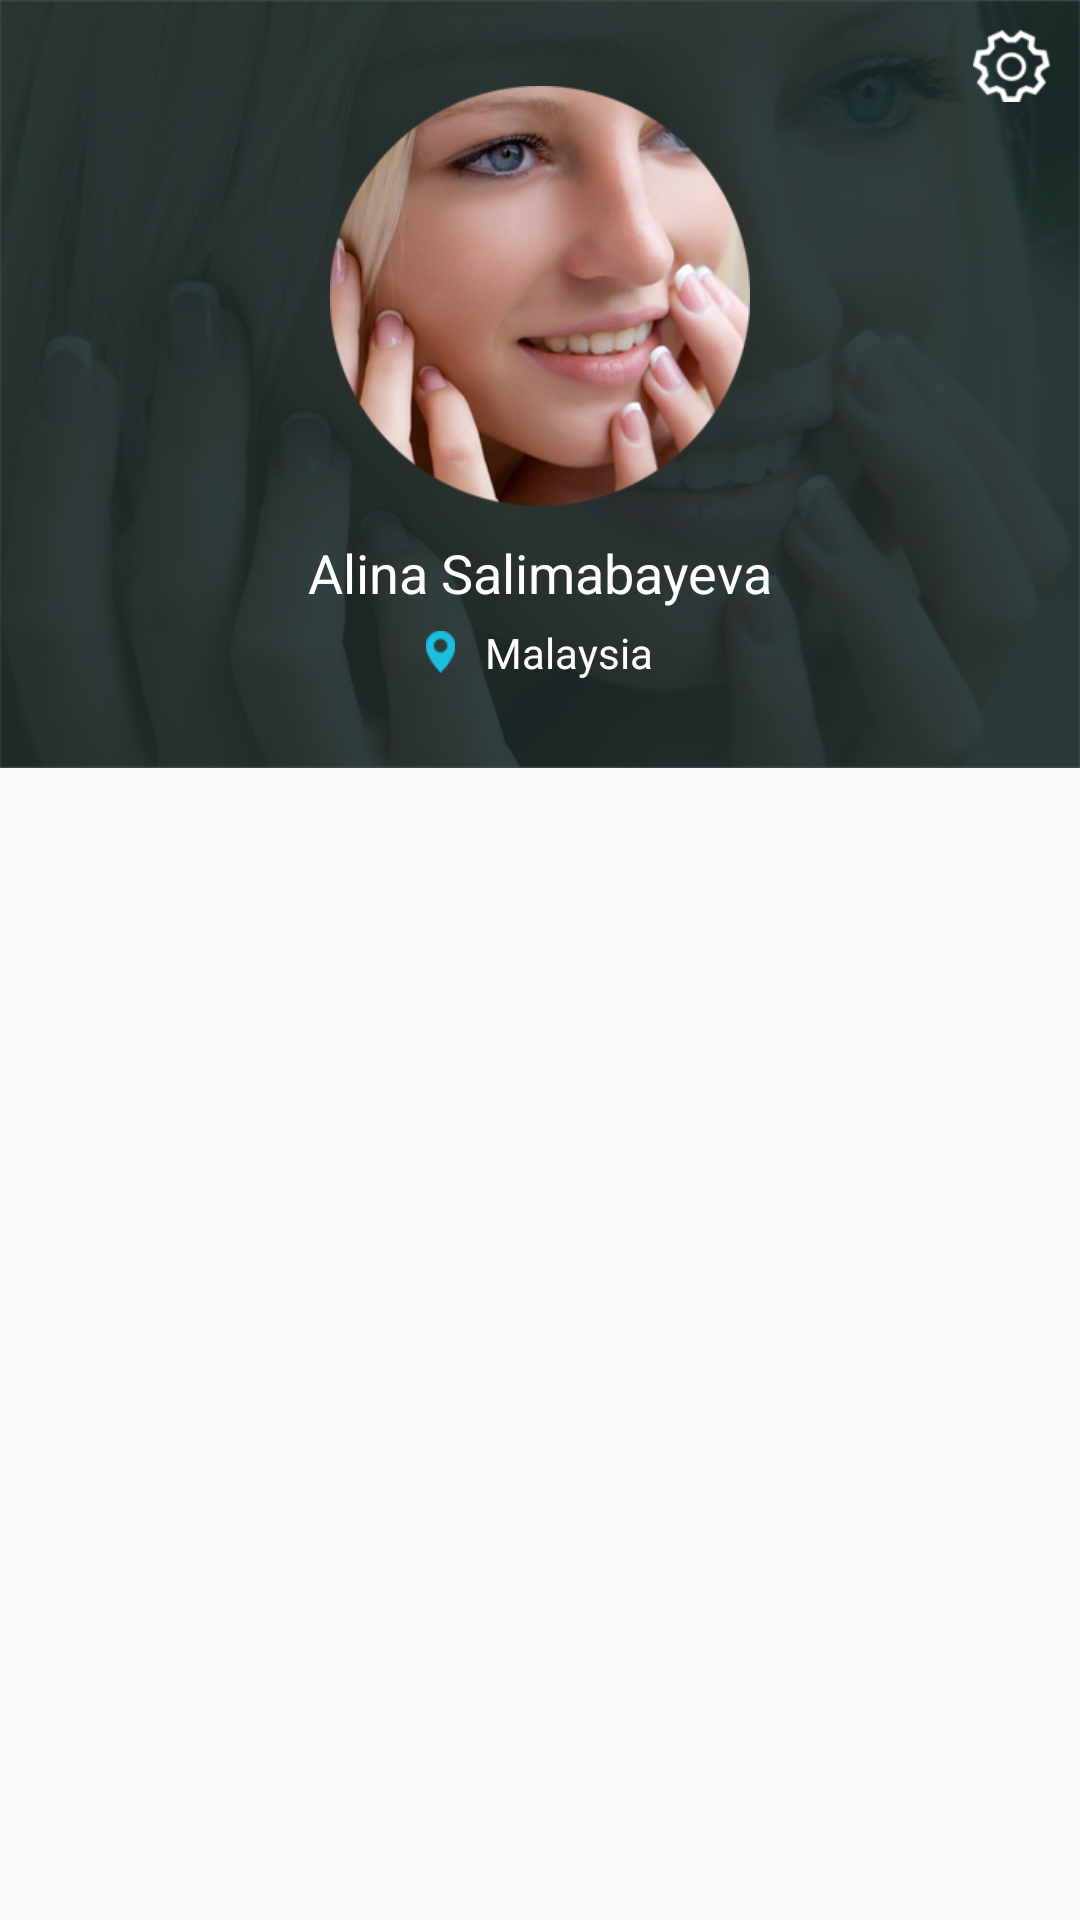

Icons on this 1080 × 1920 Android screen, each with its box as (x1, y1, x2, y2):
settings: (943, 0, 1080, 132)
